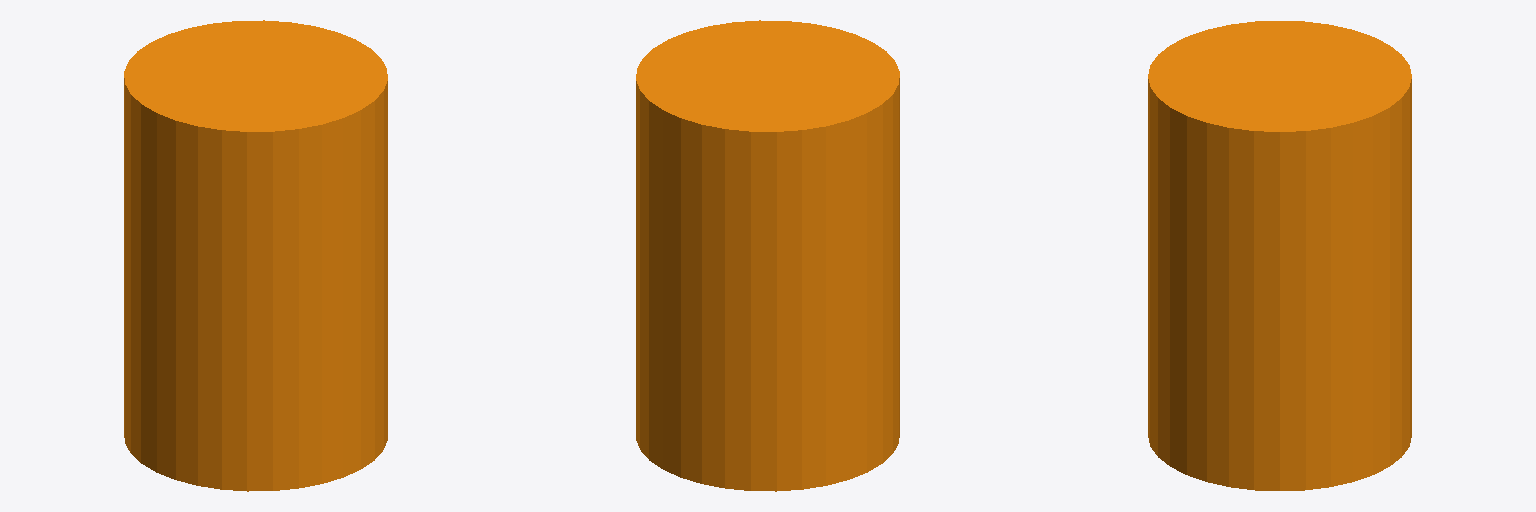
robot.urdf — green_can:
<robot name="green_can">

` <link name="can">
    <inertial>
      <mass value="0.1"/>
      <inertia ixx="1.0" ixy="0.0" ixz="0.0" iyy="1.0" iyz="0.0" izz="1.0"/>
    </inertial>
    <visual>
      <origin rpy="0 0 0" xyz="0 0 0"/>
      <geometry>
        <cylinder length="0.15" radius="0.05"/>
      </geometry>
      <material name = "green">
        <color rgba="0.99 0.6 0.1 1"/>
      </material>
    </visual>
    <collision>
      <origin rpy="0 0 0" xyz="0 0 0"/>
      <geometry>
        <cylinder length="0.15" radius="0.05"/>
      </geometry>
    </collision>
  </link>

</robot>

--- Facts derived from the render (not from the file) ---
Views: 3 orthographic renders of the robot side by side, from view 1: azimuth 30°, elevation 25°; view 2: azimuth 150°, elevation 25°; view 3: azimuth 270°, elevation 25°.
Robot: green_can — 1 links, 0 joints (none); root link can; default pose: all joints at 0.
Links seen in each view (by area): view 1: can; view 2: can; view 3: can.
Boxes of the visible links, bbox=[...] form: can: bbox=[124, 20, 387, 491]; can: bbox=[636, 20, 899, 491]; can: bbox=[1148, 21, 1411, 490].
Size in the robot's own frame: 0.1 by 0.1 by 0.15 metres.
Geometry: primitives only (box / cylinder / sphere), no mesh files.